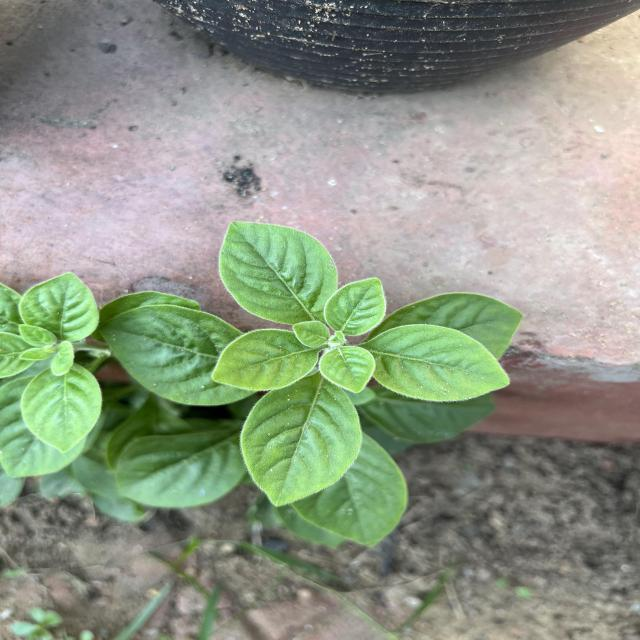Aerva lanata: (237, 372, 366, 510), (216, 218, 342, 326), (358, 321, 514, 404), (208, 325, 322, 393), (320, 274, 390, 338), (316, 343, 378, 395)
